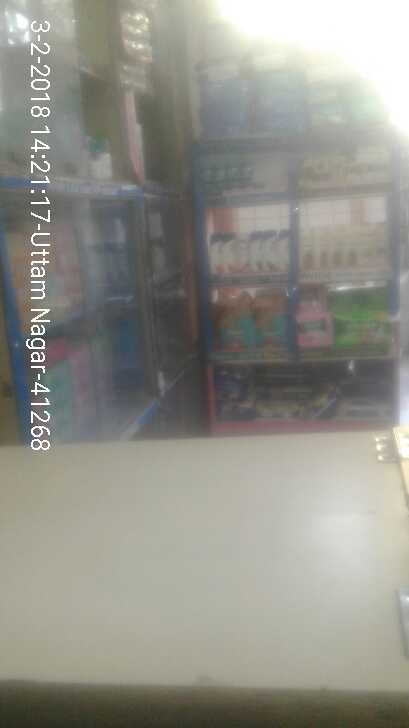vicks: (203, 157, 266, 195)
